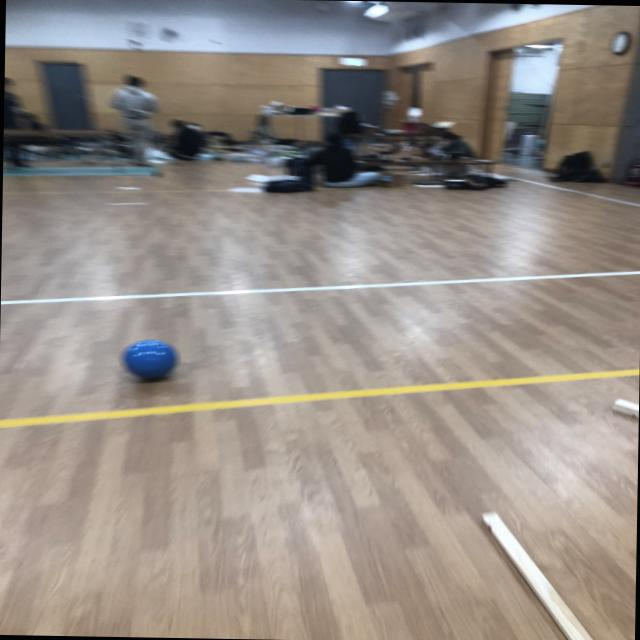blue_ball: (126, 340, 178, 380)
